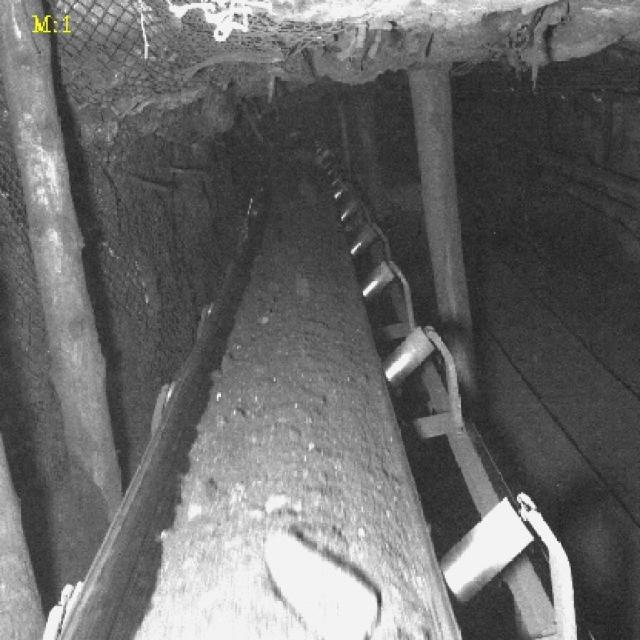large_sized_coal: (263, 530, 380, 638)
